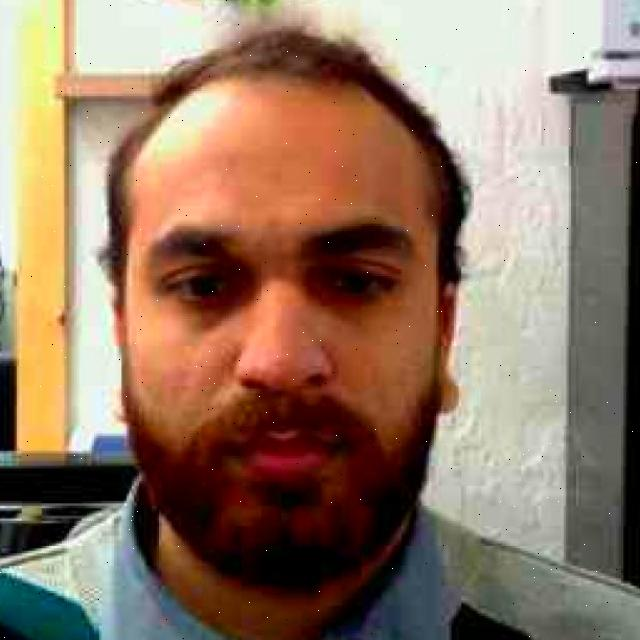puffy_eyes: (187, 286, 251, 330), (305, 270, 379, 307)
